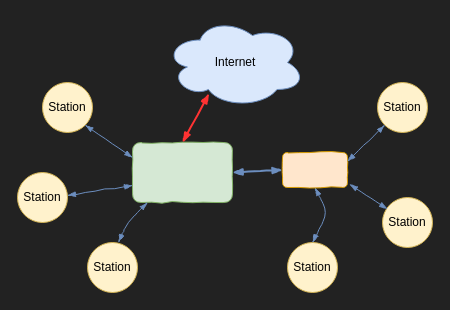
This 450x310 diagram has some shape labels left out. The centre of each missing label's shape, as x and y in pixels:
AP: (x=182, y=172)
Repeater: (x=315, y=170)
